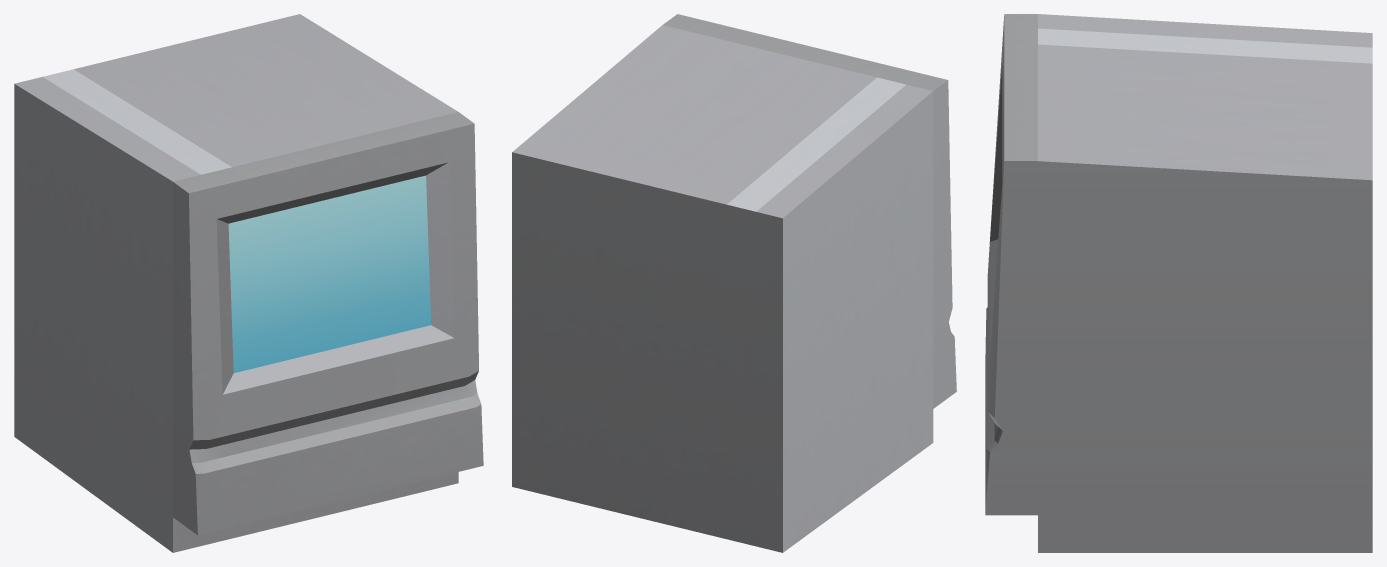
Rendered from SM_Computadora.fbx.
3 renders of one model, left to right at view 1: azimuth 30°, elevation 25°; view 2: azimuth 150°, elevation 25°; view 3: azimuth 270°, elevation 25°, orthographic. The views are drawn at different scales.
Parts seen in each view (by area): view 1: MSH_PC; view 2: MSH_PC; view 3: MSH_PC.
Part boxes in pixels (<box>): MSH_PC: <box>14,14,483,552</box>; MSH_PC: <box>512,14,956,552</box>; MSH_PC: <box>985,14,1372,552</box>.
Size of the model in its own units: 32.23 by 40.03 by 35.88.
1 material, 1 textured.
